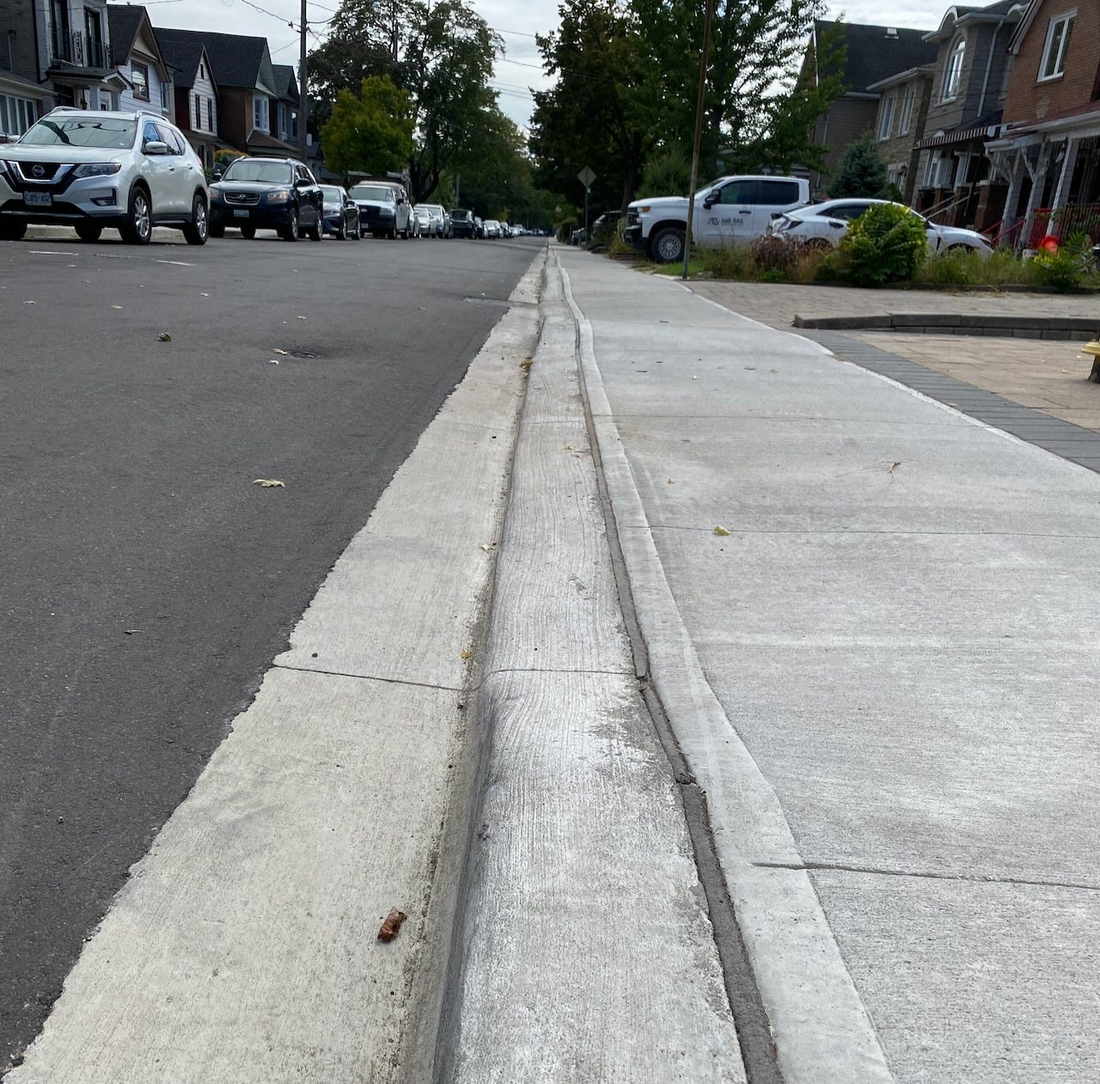Car: (9, 97, 211, 259), (616, 169, 830, 277), (211, 136, 333, 265), (339, 169, 423, 238), (420, 181, 467, 240)
